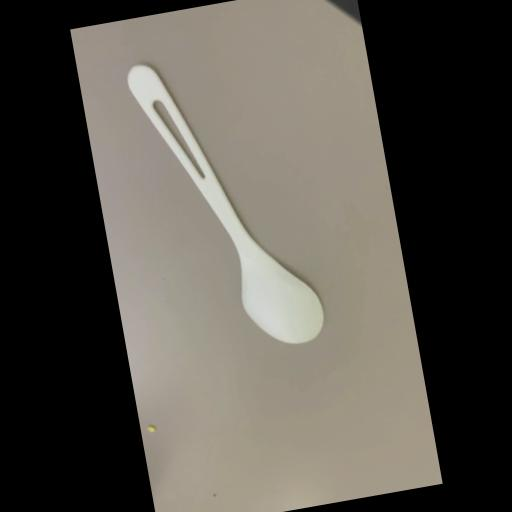utensil: (94, 12, 350, 378)
